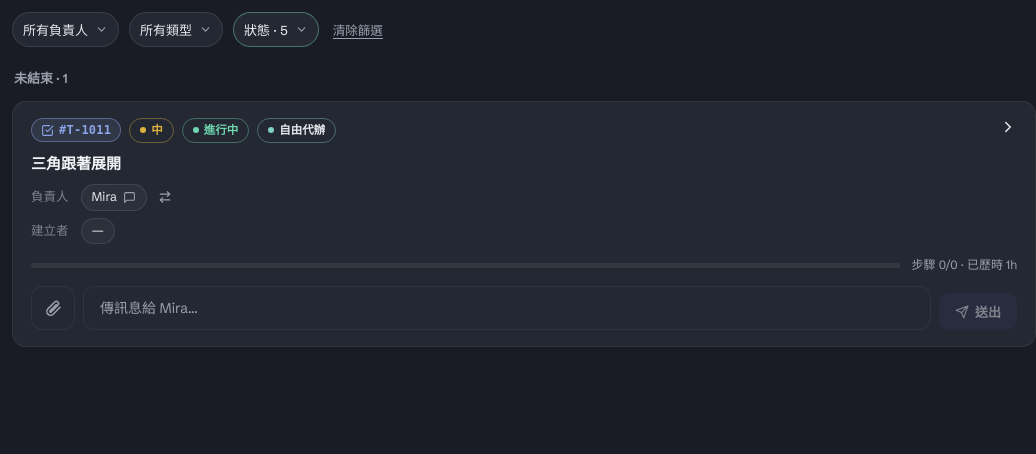
Scenario: spec ④ 右上三角展開指示器 › points right while collapsed and down while expanded, tracking the card
Note: Expand via the card body (the toggle surface) — the chevron follows.
Click the heading with class "task-card__title": (76, 163) [31, 153, 121, 174]
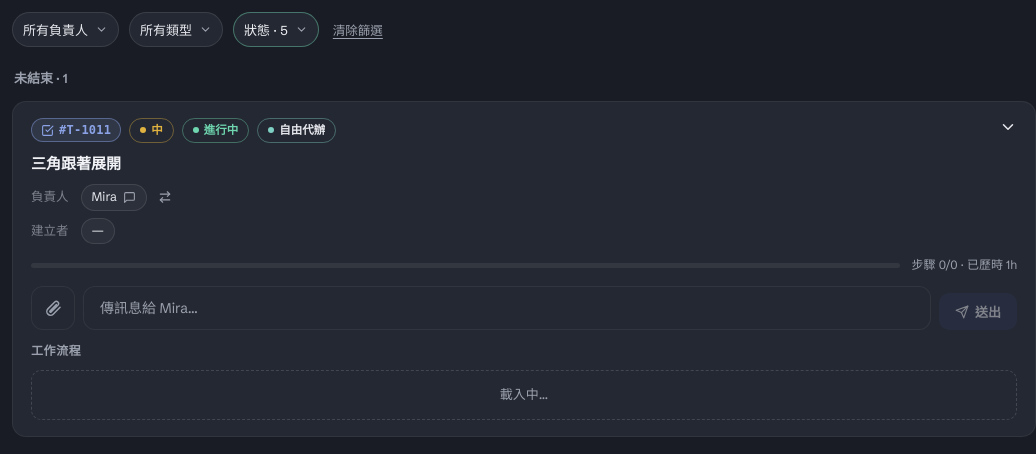
Result: the button with test id "task-card" is expanded
Note: …and back.
Click the heading with class "task-card__title": (76, 163) [31, 153, 121, 174]
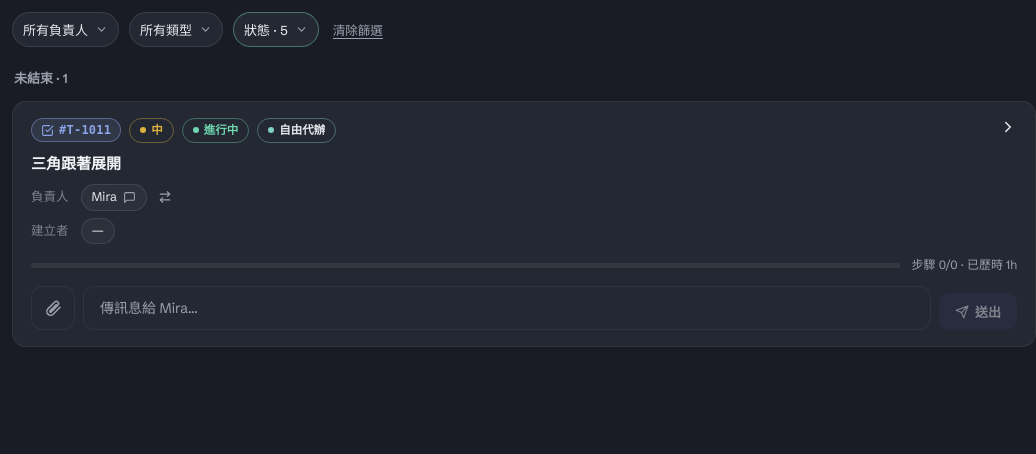
Result: the button with test id "task-card" is collapsed at [12, 100, 1035, 347]
